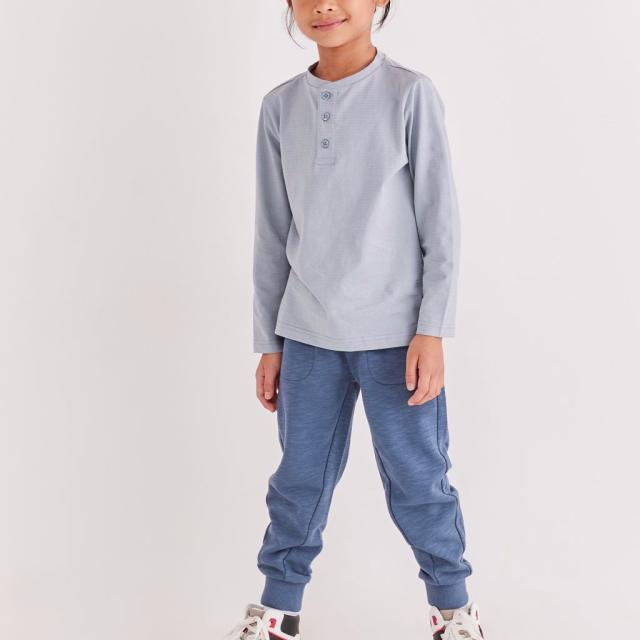child: (247, 0, 487, 640)
